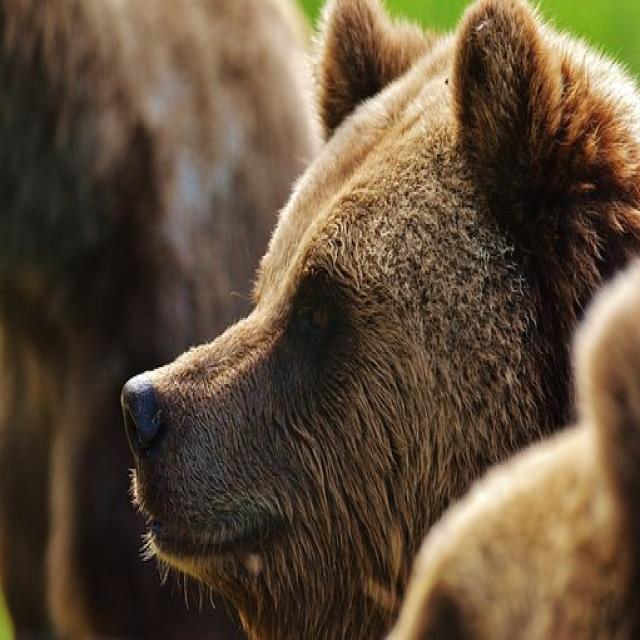Bear: (119, 0, 640, 640), (382, 252, 640, 640)
